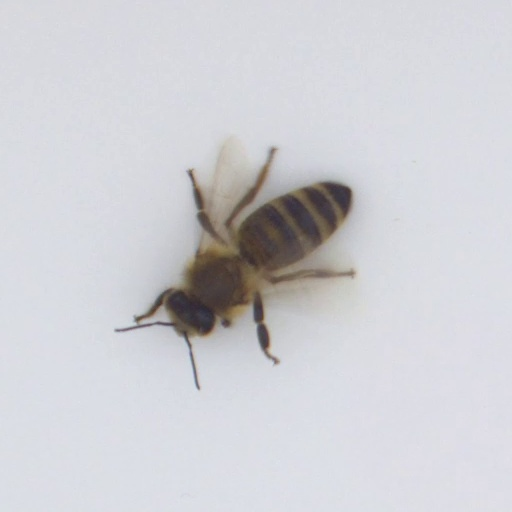Bee: (139, 157, 371, 356)
Thorax: (181, 246, 247, 310)
